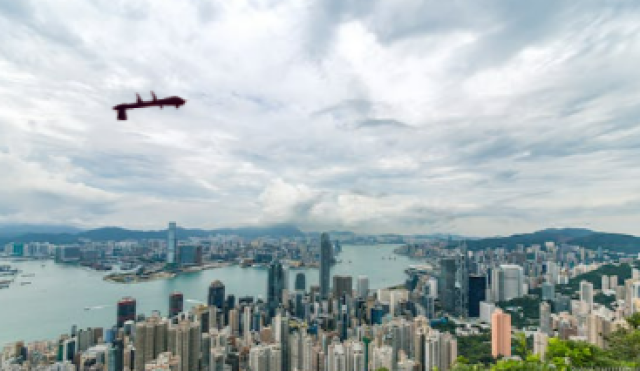military drone: (110, 90, 189, 120)
